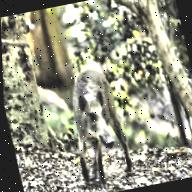boar: (49, 53, 147, 183)
